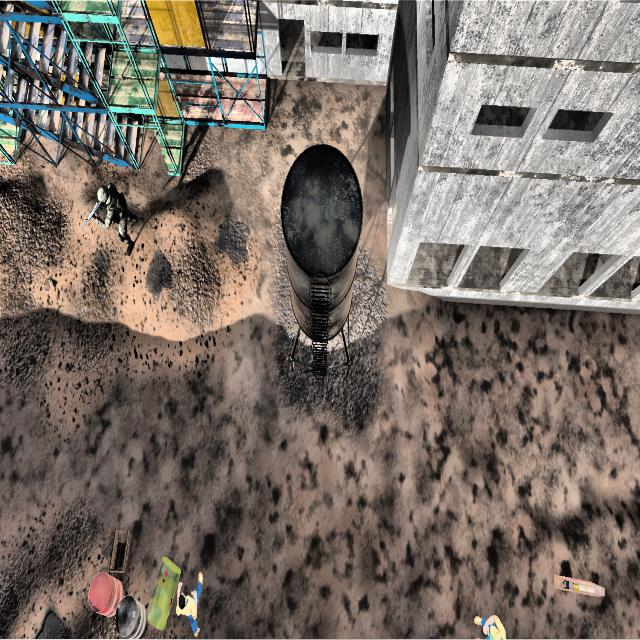bad: (88, 175, 139, 261)
good: (170, 570, 213, 640), (468, 599, 518, 640)
